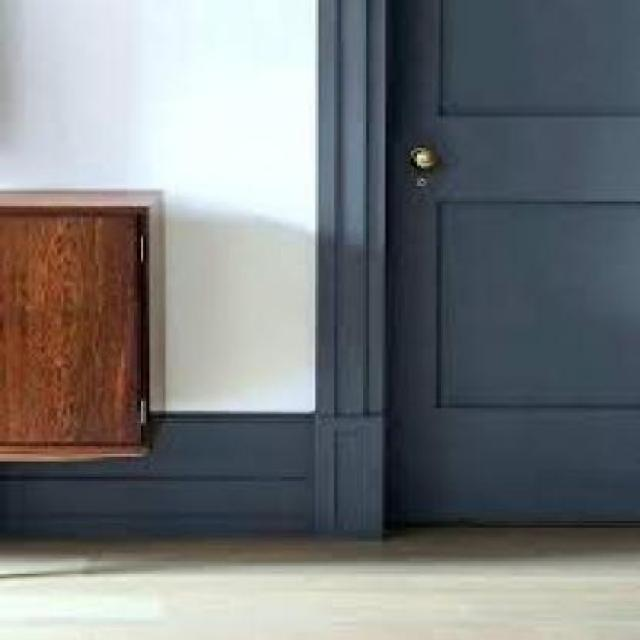door: (376, 0, 638, 535)
